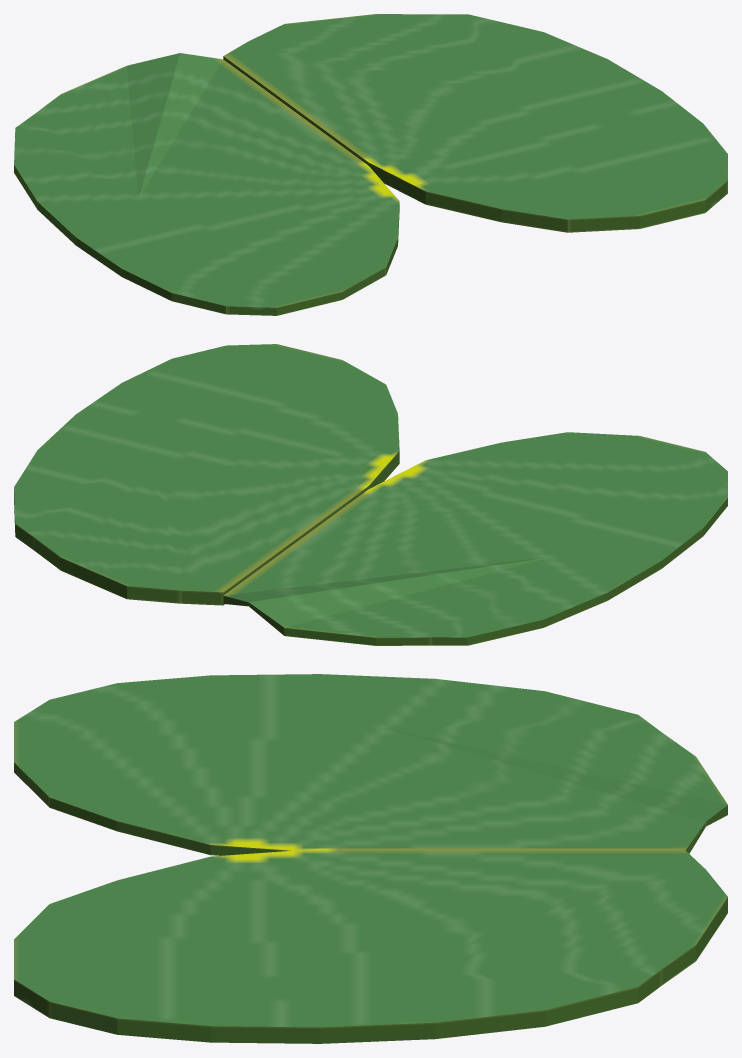
The picture shows the model from 3 angles, top to bottom: view 1: azimuth 30°, elevation 25°; view 2: azimuth 150°, elevation 25°; view 3: azimuth 270°, elevation 25°; orthographic projection. The views are drawn at different scales.
Parts seen in each view (by area): view 1: cylinder_1, cylinder; view 2: cylinder, cylinder_1; view 3: cylinder_1, cylinder.
Part boxes in pixels (<box>): cylinder_1: <box>223,14,727,232</box>; cylinder: <box>14,53,399,315</box>; cylinder: <box>223,432,727,645</box>; cylinder_1: <box>14,344,399,605</box>; cylinder_1: <box>14,848,727,1043</box>; cylinder: <box>14,674,727,855</box>.
Size of the model in its own units: 116 by 3.44 by 98.12.
1 material, 1 textured.
